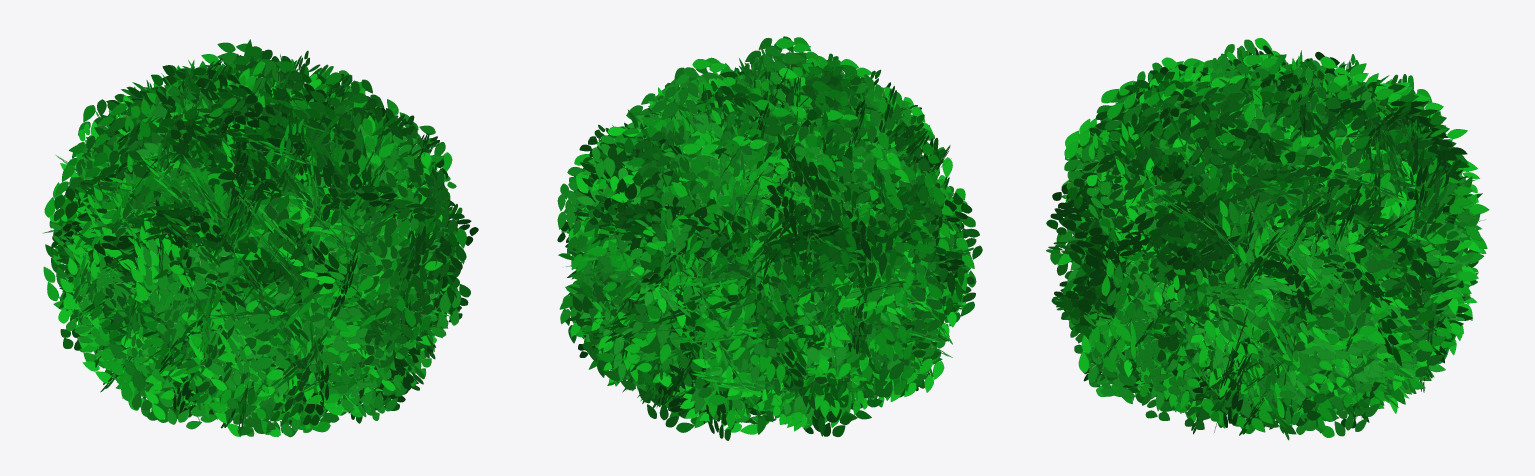
Rendered from arbusto .fbx.
3 views of the same model, side by side, from view 1: azimuth 30°, elevation 25°; view 2: azimuth 150°, elevation 25°; view 3: azimuth 270°, elevation 25° (orthographic). The views are drawn at different scales.
Visible parts, largest first — view 1: Arbusto; view 2: Arbusto; view 3: Arbusto.
Boxes of the visible parts, box(x1,y1,x2,y2) form: Arbusto: box(42, 39, 478, 437); Arbusto: box(557, 36, 982, 440); Arbusto: box(1046, 38, 1489, 440).
Bounding box in the file's own units: 508 × 506 × 424.
